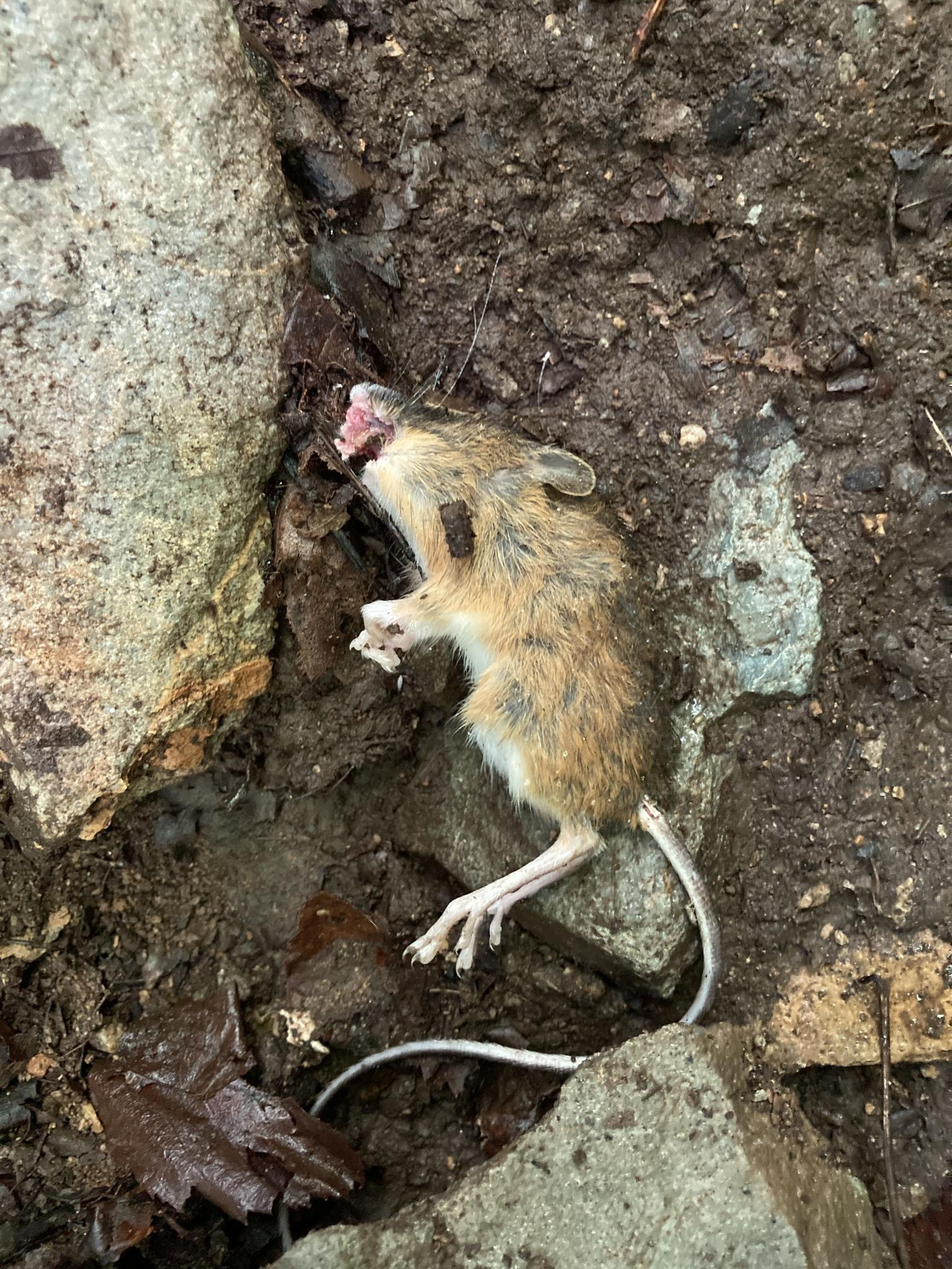rat: (309, 380, 724, 1109)
